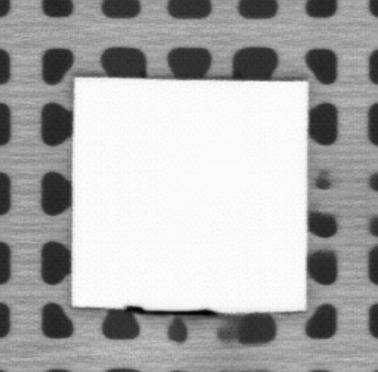DIE_BROKEN: (122, 304, 219, 317)
